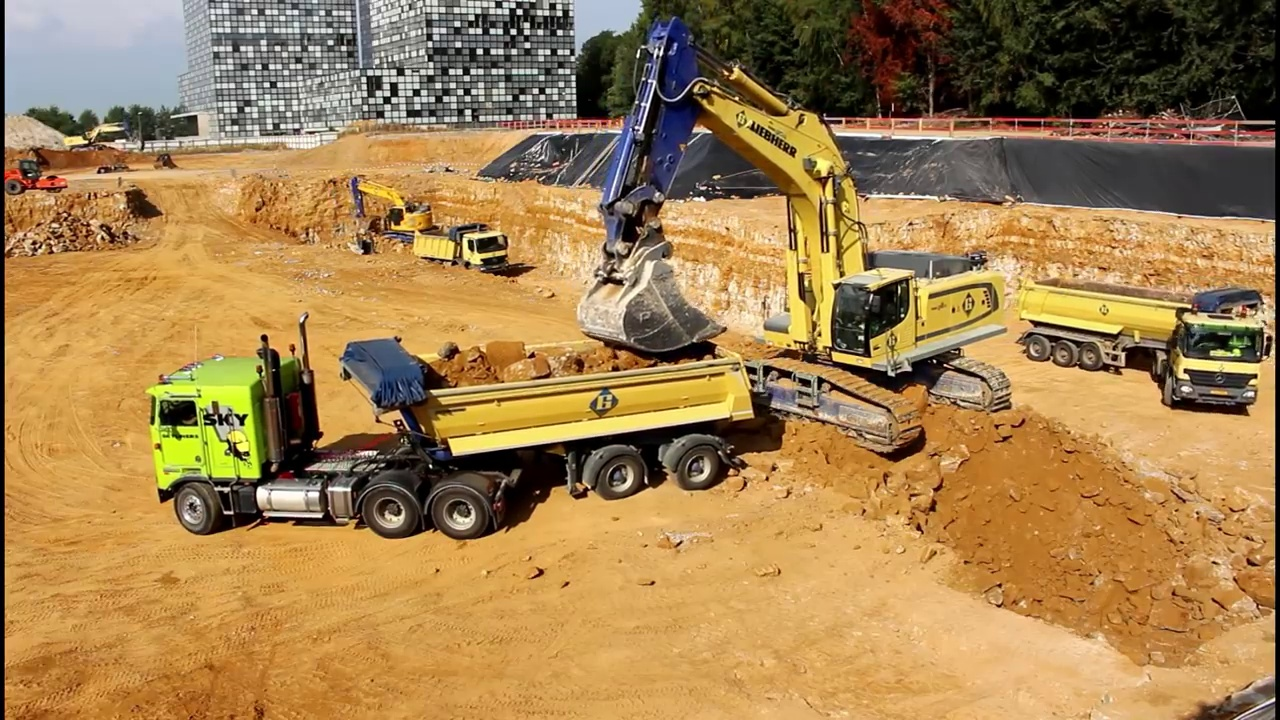compactor: (4, 158, 68, 198)
excavator: (573, 9, 1019, 457), (142, 310, 759, 544), (340, 171, 452, 250), (59, 119, 143, 157)
truck: (1015, 279, 1274, 417), (411, 217, 514, 285)
